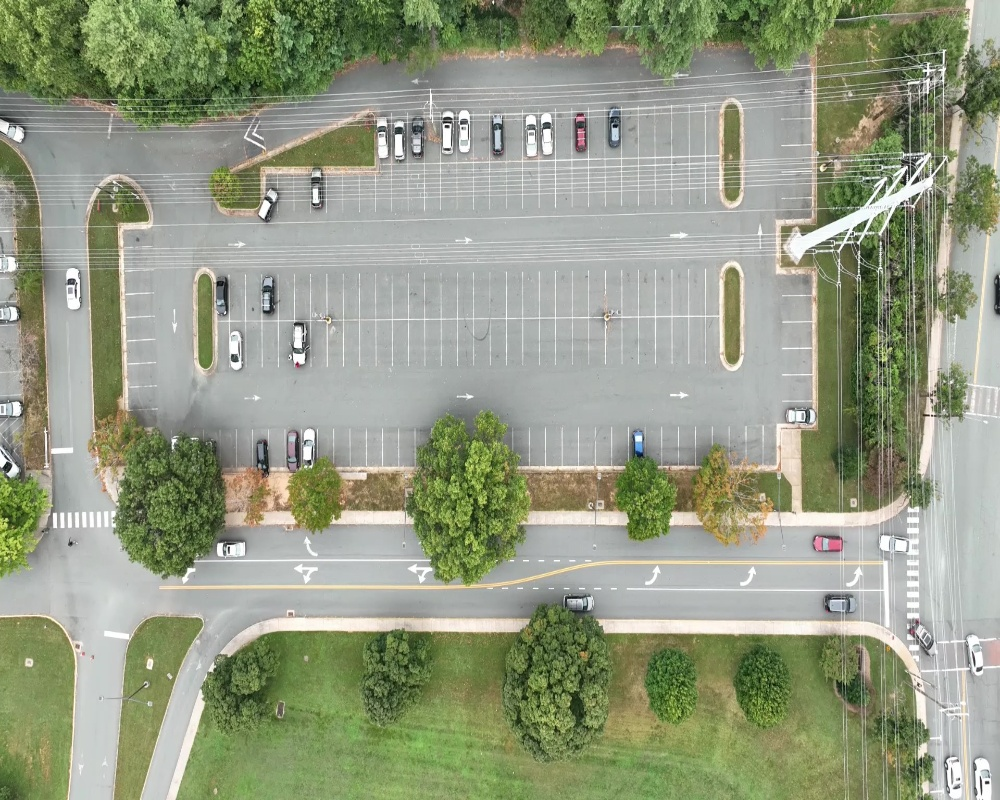car: (905, 612, 944, 663), (960, 629, 989, 680), (604, 101, 625, 153), (488, 110, 508, 161), (570, 109, 592, 155), (64, 265, 84, 315), (254, 185, 280, 223), (372, 116, 393, 163), (212, 272, 232, 321), (781, 404, 820, 429), (521, 113, 540, 162), (875, 533, 912, 558), (822, 593, 860, 617), (1, 109, 26, 145), (289, 322, 308, 369), (259, 275, 279, 319), (307, 167, 326, 212), (560, 592, 597, 615), (439, 109, 456, 157), (811, 532, 845, 556), (457, 108, 473, 157), (629, 427, 648, 467), (539, 112, 555, 159), (391, 118, 407, 164), (409, 117, 426, 160), (302, 428, 318, 473), (253, 439, 270, 480), (285, 428, 300, 472), (1, 447, 21, 479), (217, 540, 248, 560), (228, 330, 242, 373), (1, 301, 20, 324), (1, 401, 23, 417), (1, 255, 16, 275)
